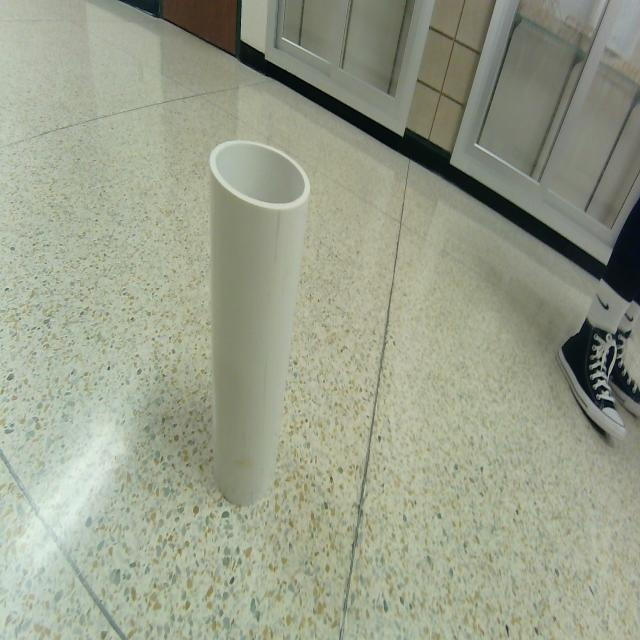coral: (209, 139, 310, 507)
